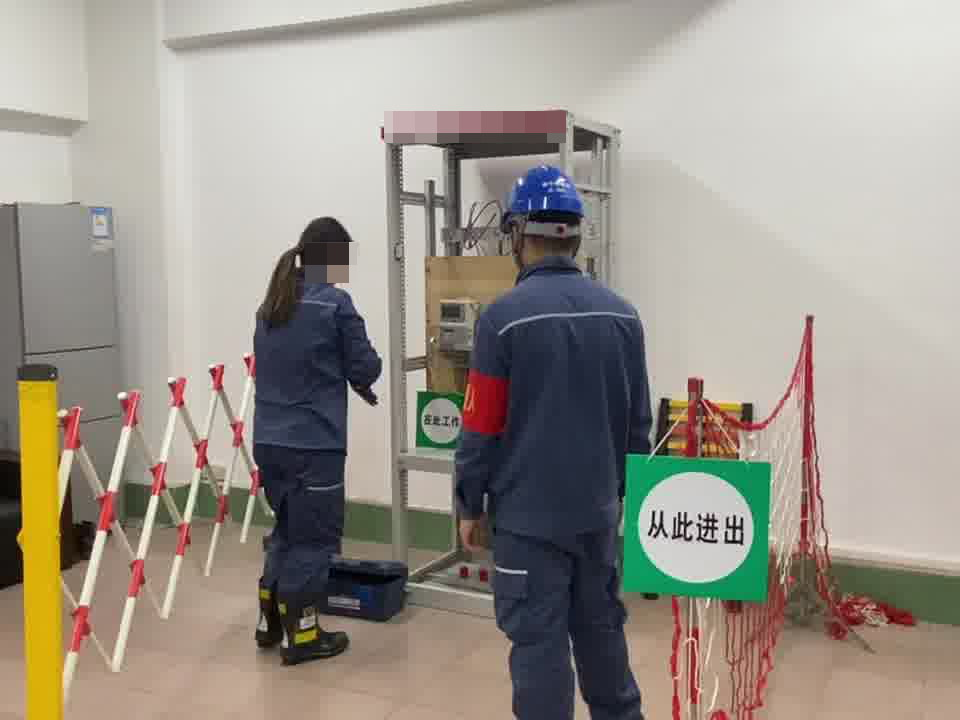badge: (460, 370, 512, 438)
downsuit: (491, 547, 651, 720), (252, 449, 352, 610)
halt: (503, 163, 589, 263)
hand: (454, 517, 487, 551)
intosign: (623, 449, 774, 602)
person: (451, 161, 660, 720), (243, 214, 387, 664)
shoe: (281, 609, 350, 665), (250, 579, 280, 651)
unhalt: (298, 217, 356, 283)
upsuit: (453, 264, 657, 533), (249, 273, 381, 437)
worksign: (416, 390, 465, 448)
